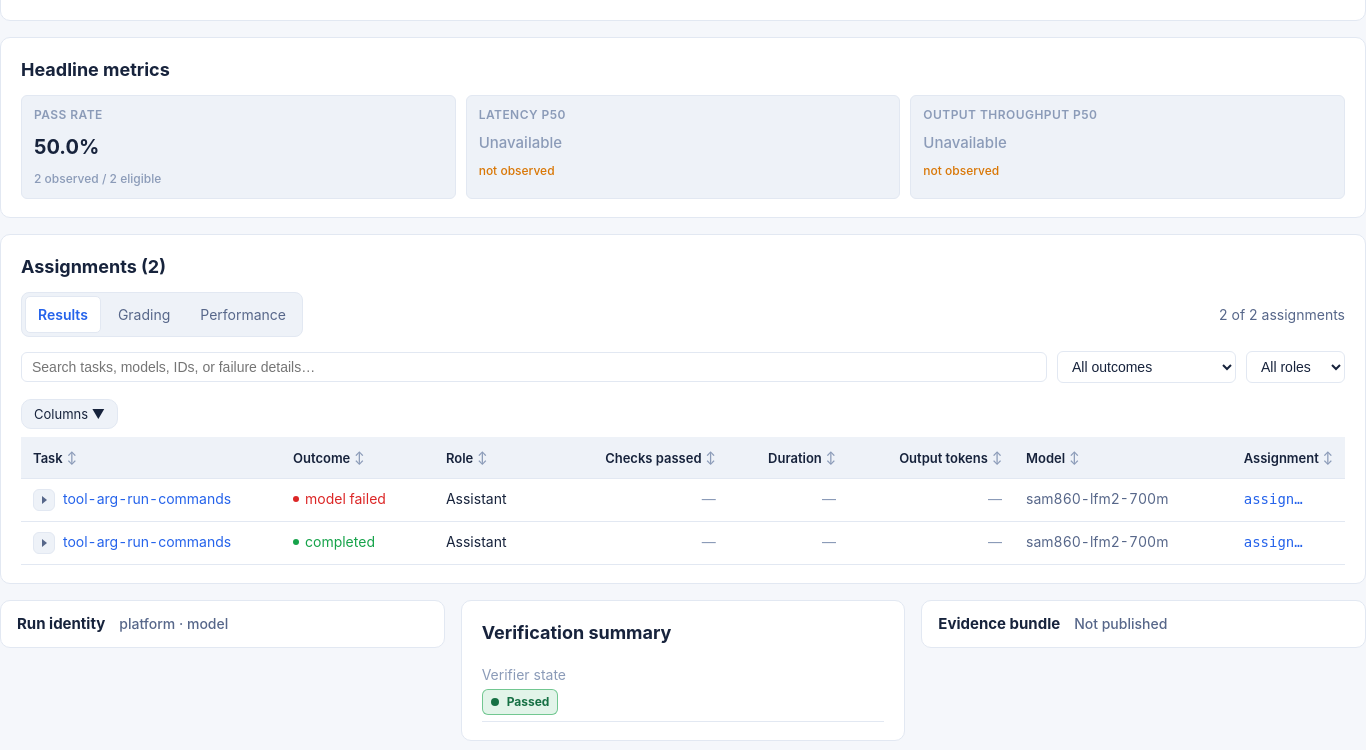
Test: EvaluationDetailView failure filtering › filters run-scoped terminal failures and links to assignment detail
(page scrolled)
Select "All failures" in the dropdown named "Filter assignments by verdict". click: (1146, 367)
box: [1057,351,1236,383]
(page scrolled)
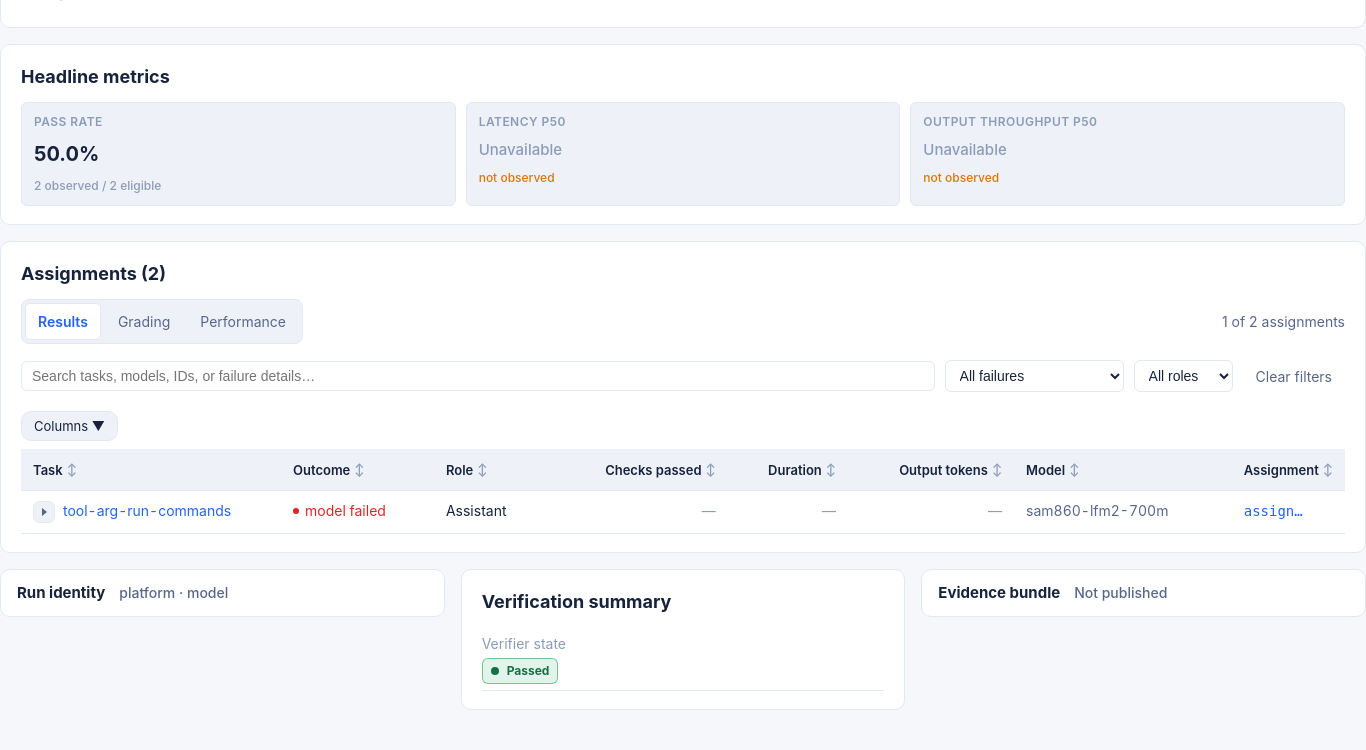
Expected: the link "assign-pass-1" is gone
